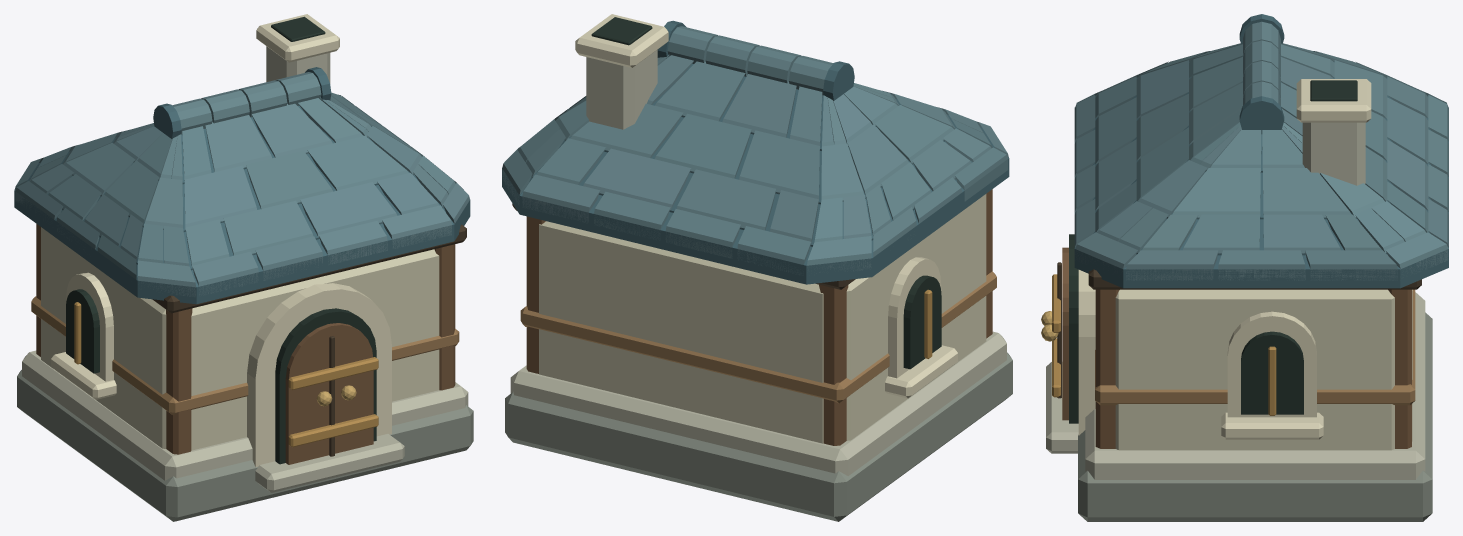
The model's file is house.glb.
The picture shows the model from 3 angles, left to right: view 1: azimuth 30°, elevation 25°; view 2: azimuth 150°, elevation 25°; view 3: azimuth 270°, elevation 25°; orthographic projection. The views are drawn at different scales.
Parts seen in each view (by area): view 1: Stone, Roof, Timber, Metal; view 2: Stone, Roof, Timber, Metal; view 3: Stone, Roof, Timber, Metal.
Part boxes in pixels (bbox=[...]): Stone: bbox=[17, 14, 473, 521]; Roof: bbox=[14, 67, 470, 304]; Timber: bbox=[31, 224, 466, 464]; Metal: bbox=[74, 302, 378, 447]; Stone: bbox=[505, 14, 1012, 521]; Roof: bbox=[502, 20, 1009, 284]; Timber: bbox=[512, 189, 996, 445]; Metal: bbox=[924, 289, 932, 358]; Stone: bbox=[1046, 79, 1432, 521]; Roof: bbox=[1074, 14, 1448, 288]; Timber: bbox=[1057, 247, 1421, 448]; Metal: bbox=[1041, 274, 1276, 415].
Bounding box in the file's own units: 2.7 × 2.76 × 2.55.
